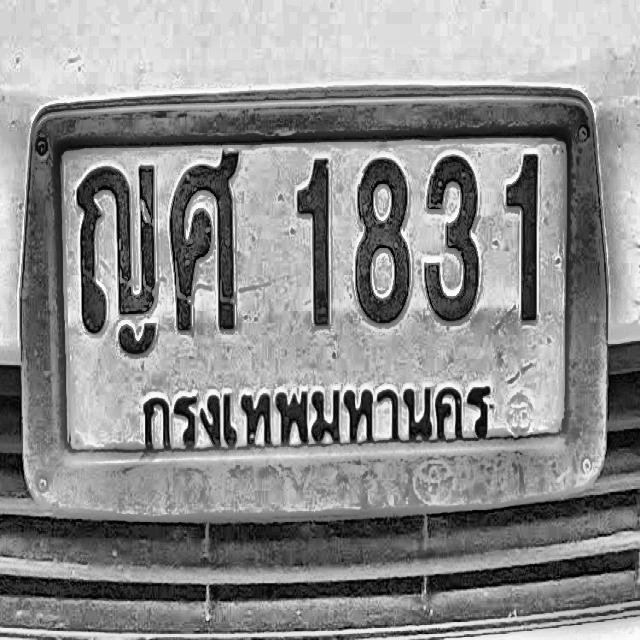license-plate: (12, 69, 620, 533)
